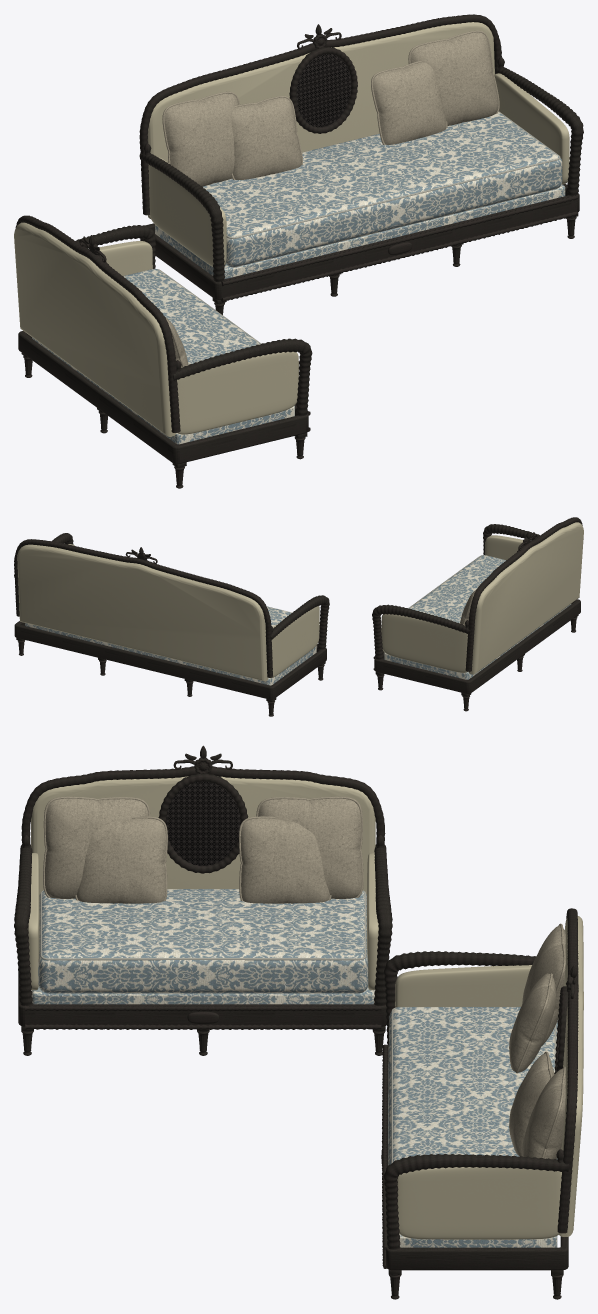
3 views of the same model, one above another, from view 1: azimuth 30°, elevation 25°; view 2: azimuth 150°, elevation 25°; view 3: azimuth 270°, elevation 25° (orthographic). The views are drawn at different scales.
Bounding box in the file's own units: 3.41 × 1.13 × 2.5.
Materials: 7 (7 with a texture image).
